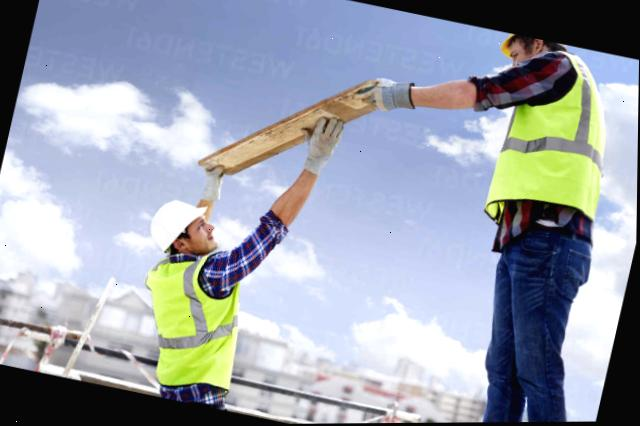helmet: (142, 194, 203, 263), (498, 31, 564, 64)
vest: (486, 68, 617, 224), (133, 259, 254, 393)
